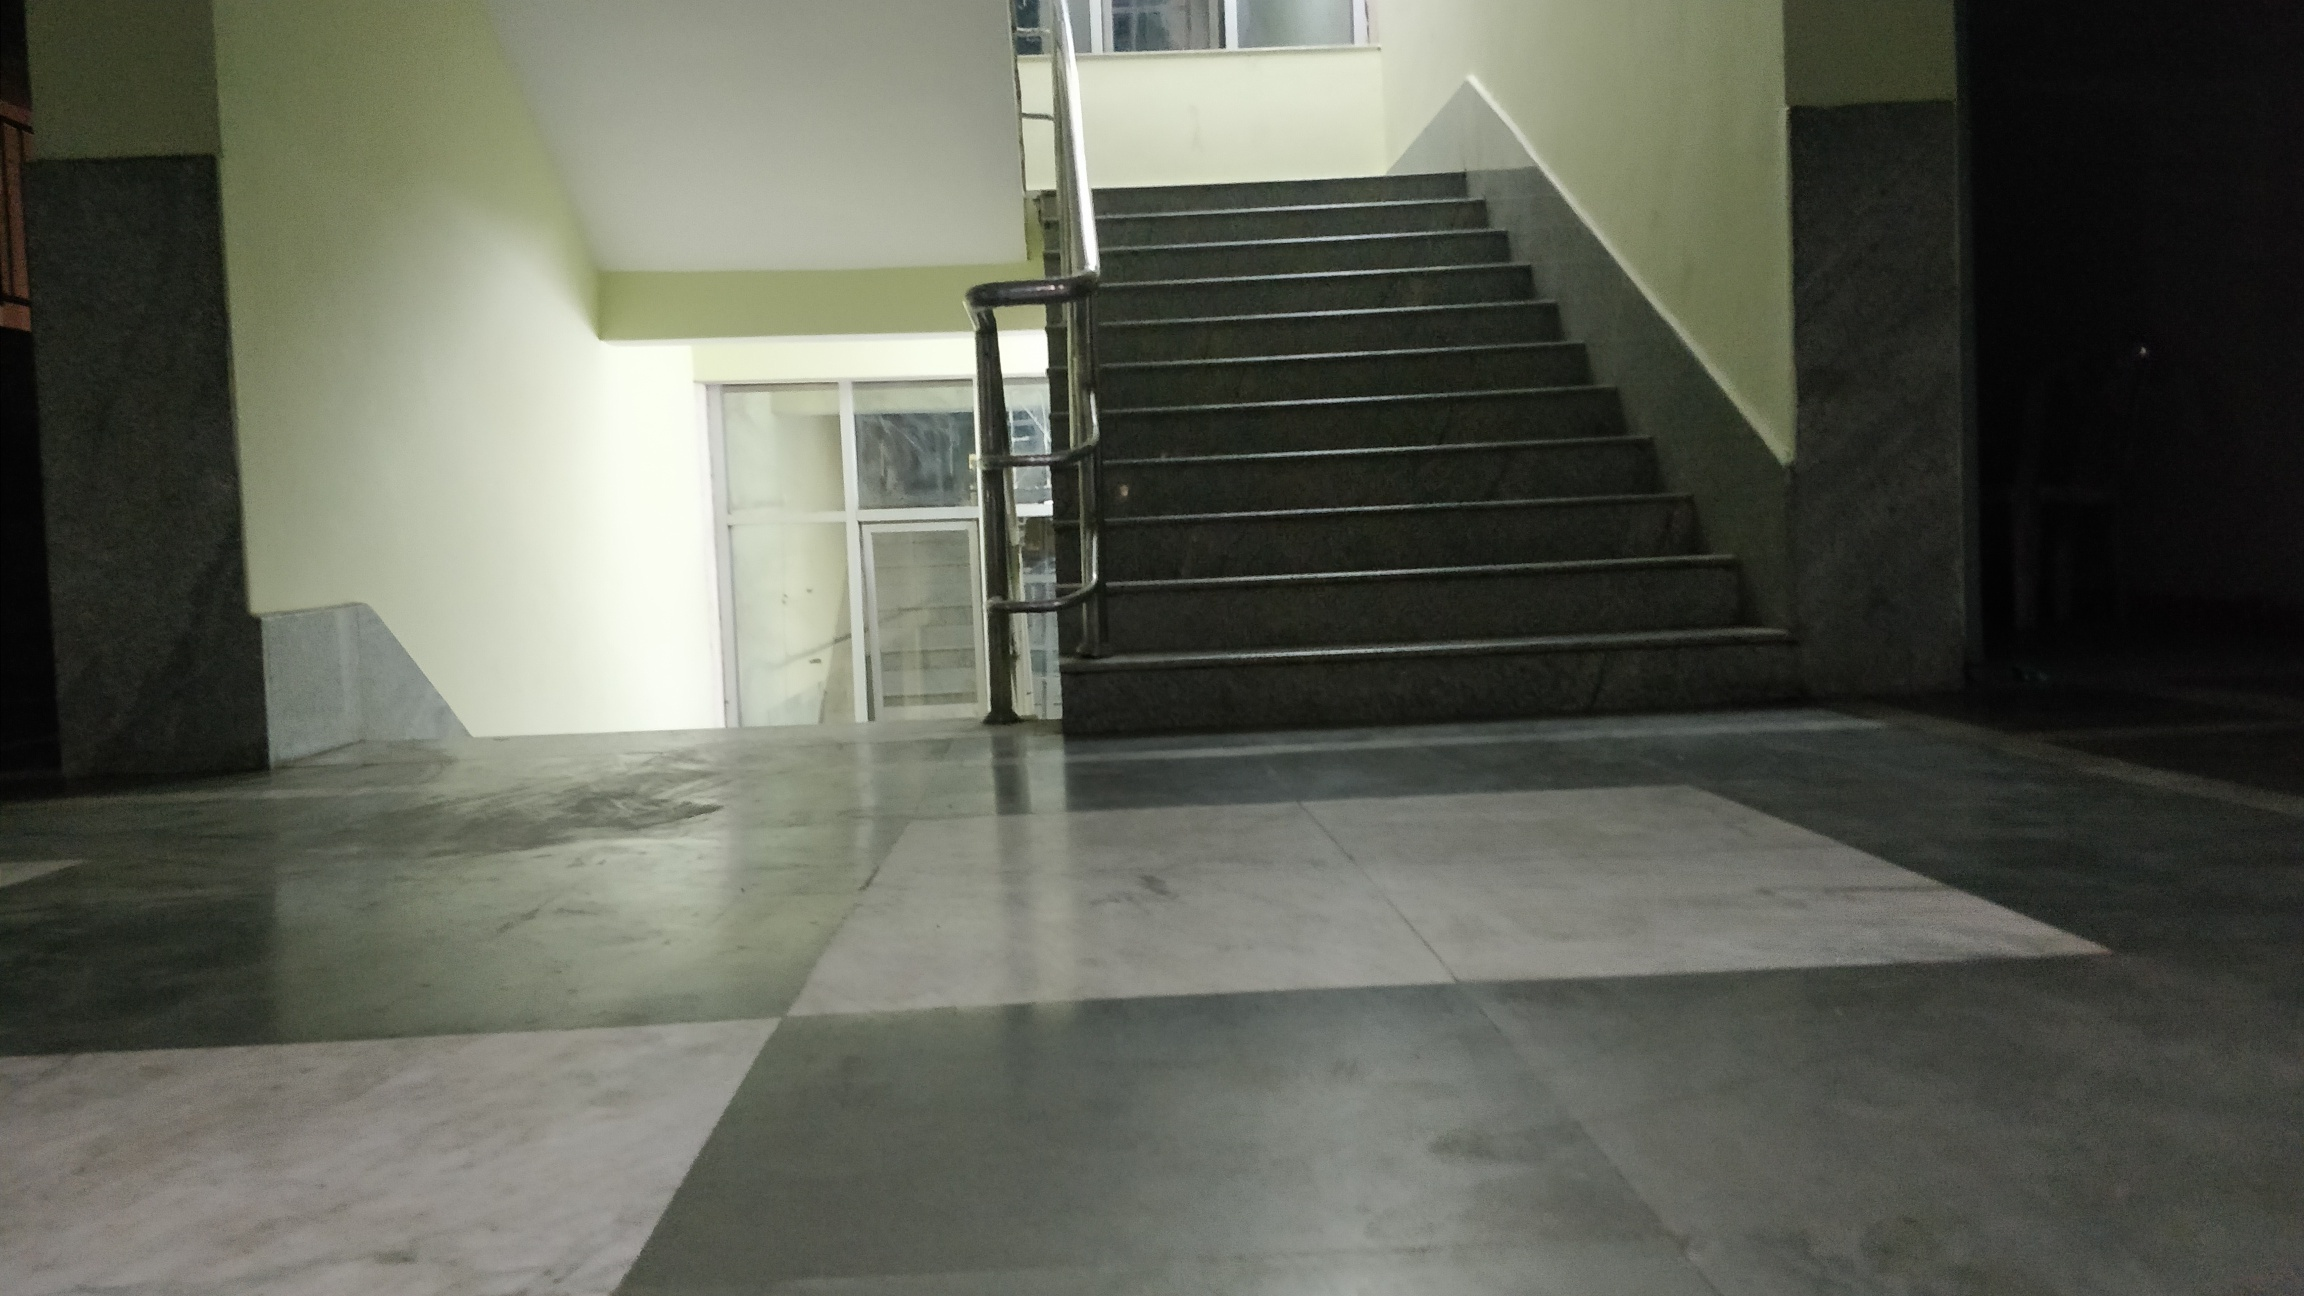stairs_up: (1044, 172, 1791, 729)
